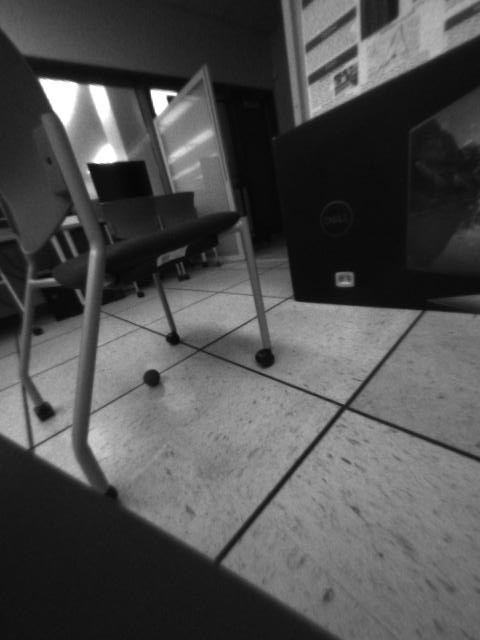dogtoy: (134, 361, 166, 392)
